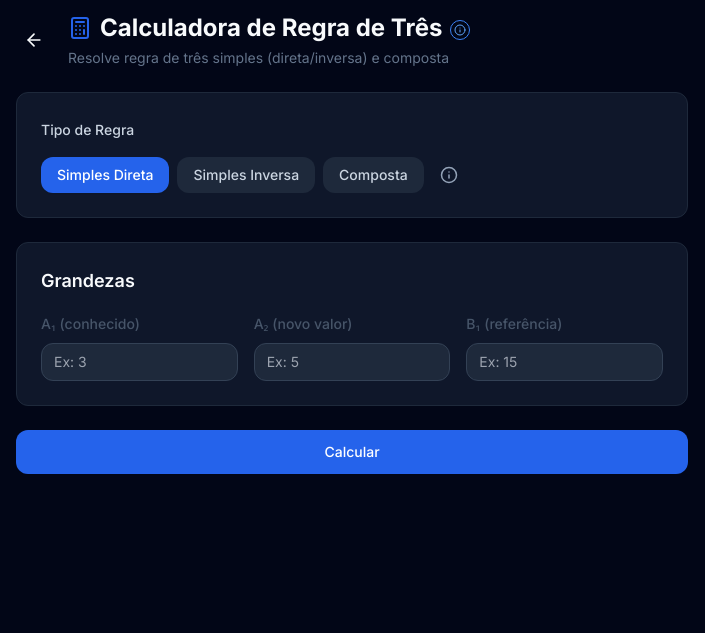
Scenario: RegraDeTresPage › calcula regra de três simples direta
In the number field with placeholder "Ex: 3": (139, 362) [41, 343, 238, 381], type "3"
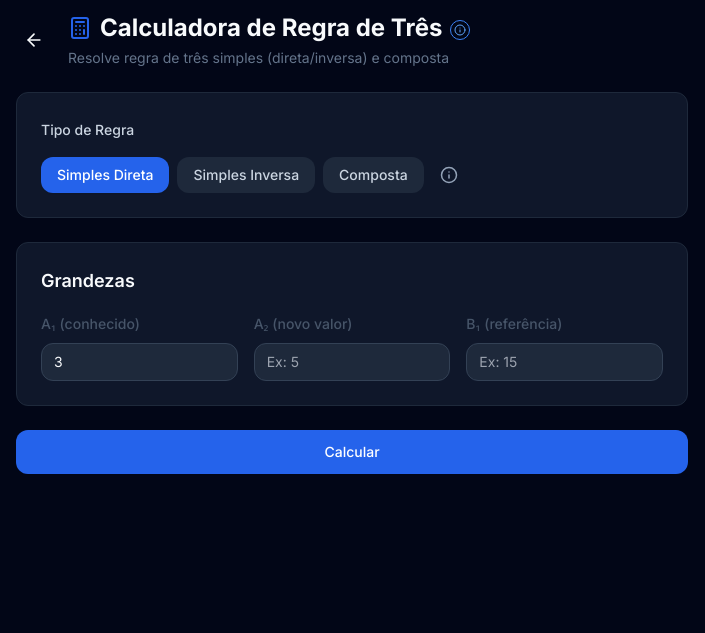
In the number field with placeholder "Ex: 5": (352, 362) [254, 343, 450, 381], type "5"
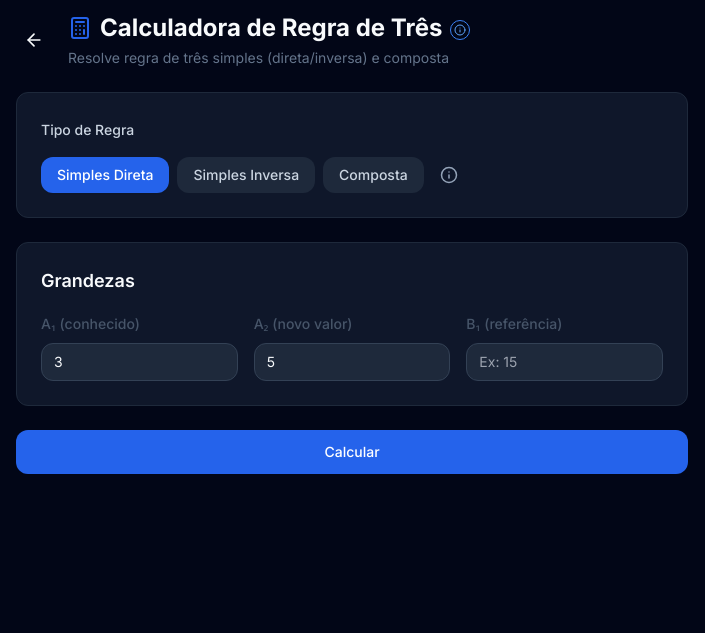
In the number field with placeholder "Ex: 15": (565, 362) [466, 343, 663, 381], type "15"
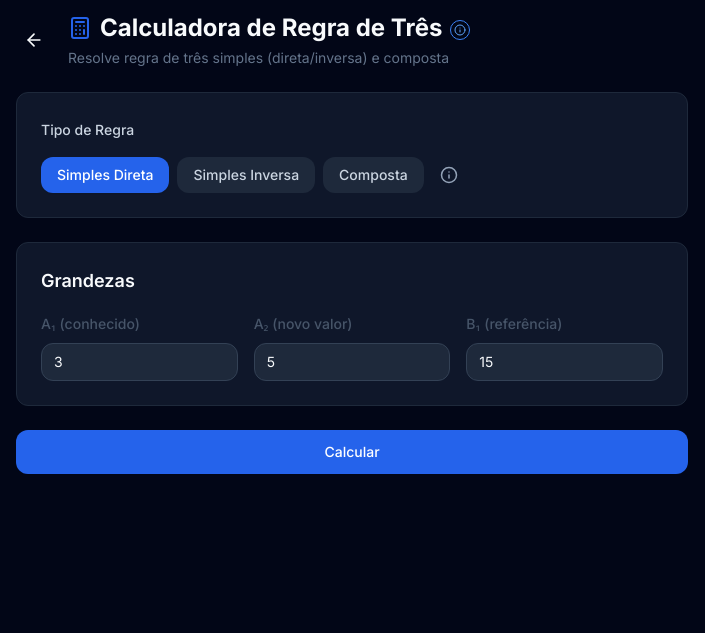
Click the button "Calcular": click(352, 452) [16, 430, 688, 474]
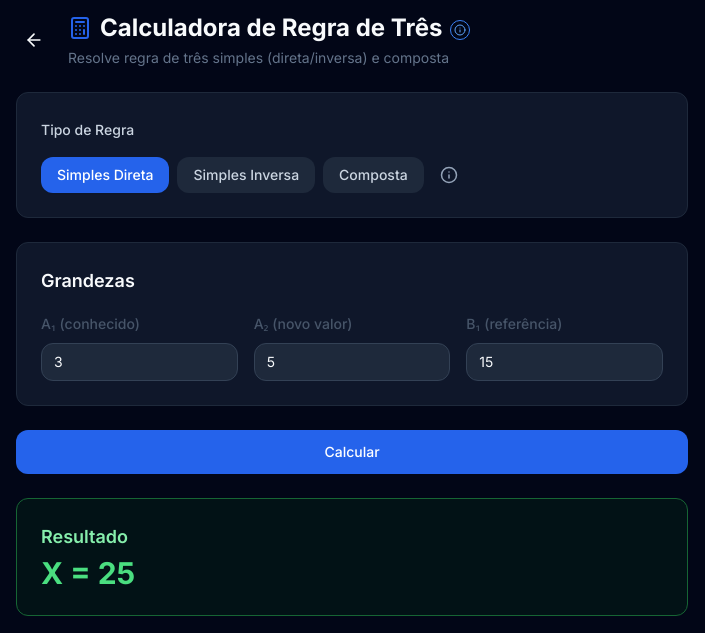
Now the text "X = 25" is shown, box [41, 555, 135, 591]
